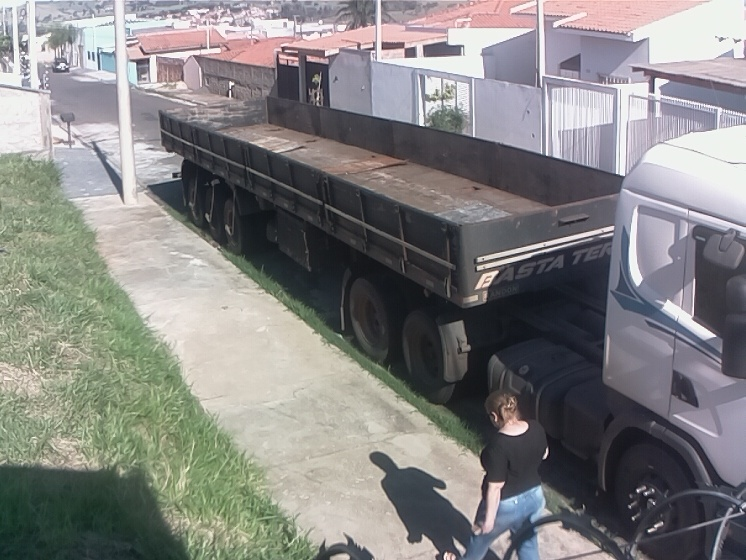person: (439, 386, 552, 560)
